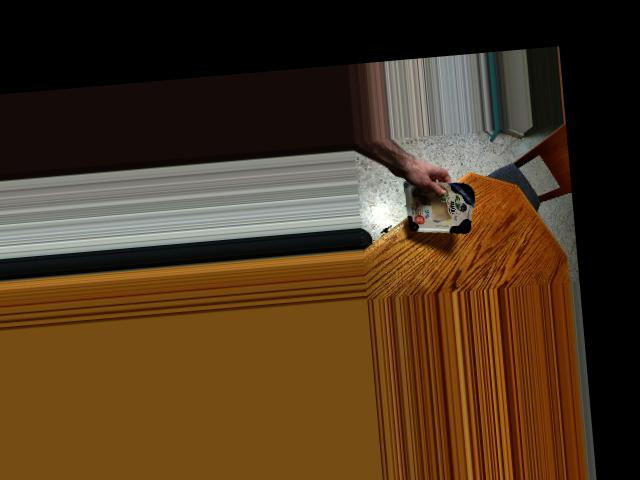cheese: (394, 176, 479, 233)
